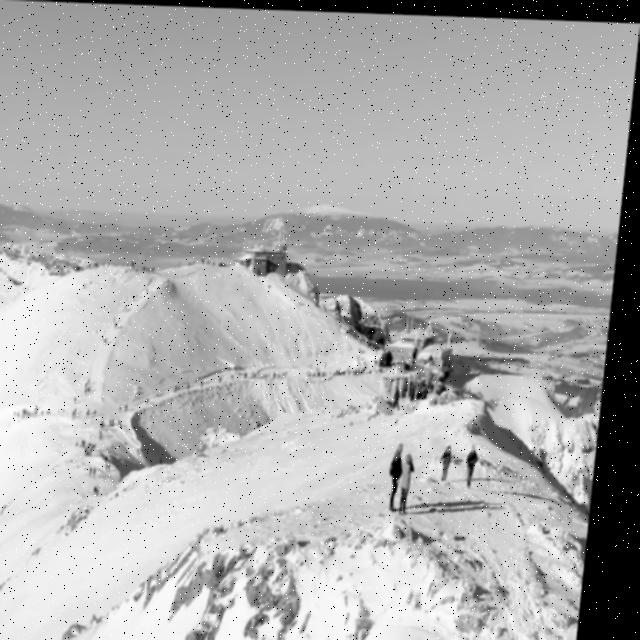Kasprowy Wierch: (123, 120, 507, 464)
